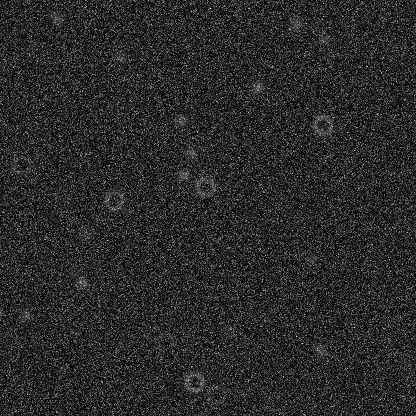Ring: (9, 153, 33, 177), (193, 174, 217, 198), (204, 382, 228, 406), (102, 188, 126, 212), (182, 370, 206, 394), (310, 112, 334, 136), (153, 330, 177, 354)
Spot: (301, 251, 317, 267), (21, 37, 37, 53), (135, 326, 151, 342), (48, 10, 64, 26), (312, 341, 328, 357), (372, 329, 388, 345), (17, 307, 33, 323), (173, 113, 189, 129), (182, 144, 198, 160), (249, 79, 265, 95), (174, 166, 190, 182), (73, 274, 89, 290), (287, 14, 303, 30), (220, 322, 236, 338), (316, 30, 332, 46), (77, 226, 93, 242), (112, 49, 128, 65)
